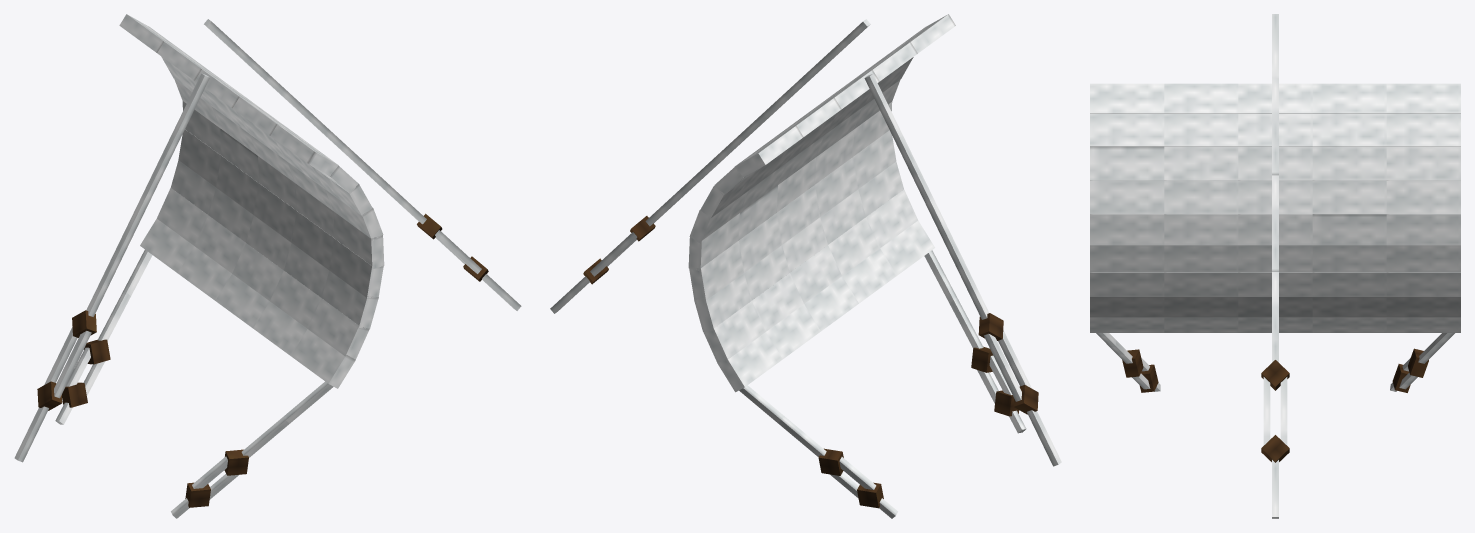
Rendered from cog_segel_1_4.obj.
The picture shows the model from 3 angles, left to right: view 1: azimuth 30°, elevation 25°; view 2: azimuth 150°, elevation 25°; view 3: azimuth 270°, elevation 25°; orthographic projection. The views are drawn at different scales.
Parts seen in each view (by area): view 1: cube; view 2: cube; view 3: cube.
Part boxes in pixels (<box>): cube: <box>14,14,521,518</box>; cube: <box>550,14,1061,518</box>; cube: <box>1090,14,1460,518</box>.
Bounding box in the file's own units: 5.3 × 4.33 × 3.44.
